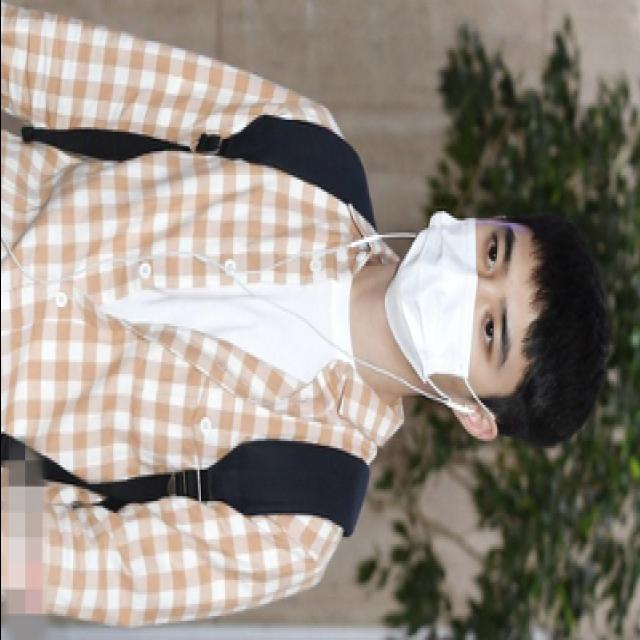mask: (382, 218, 520, 400)
